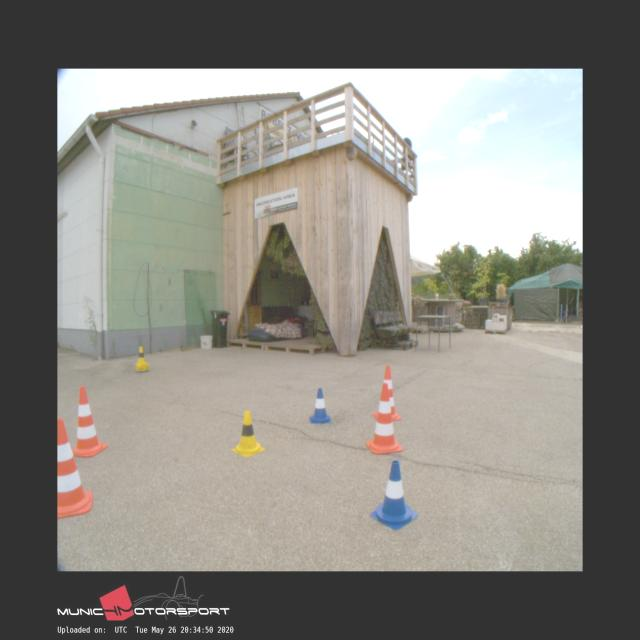blue_cone: (372, 461, 418, 529), (309, 388, 331, 422)
large_orange_cone: (58, 417, 92, 517), (72, 386, 108, 456), (367, 382, 402, 452), (372, 366, 400, 420)
yellow_cone: (232, 411, 264, 456), (135, 347, 147, 363)
